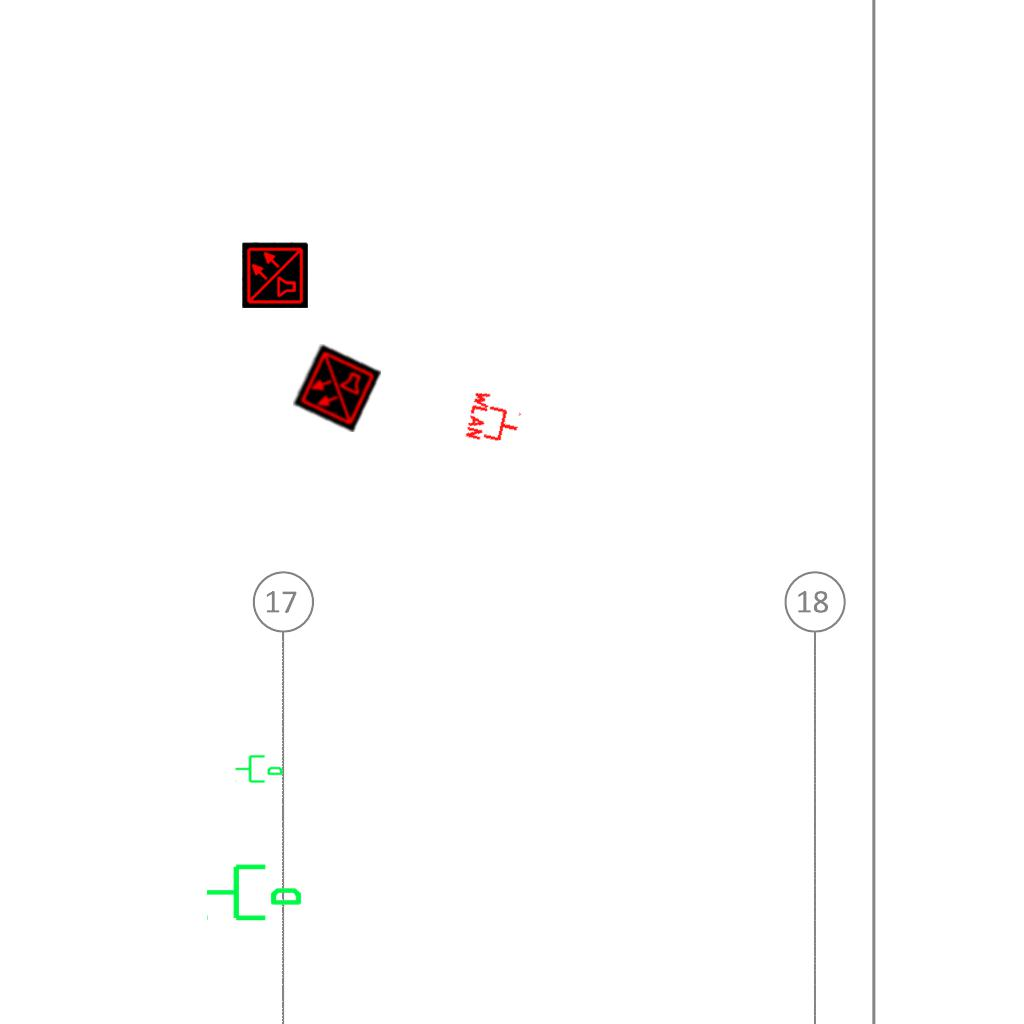Datenanschluss_einfach: (204, 856, 304, 925), (234, 751, 284, 785)
OKW_Multisensormelder_(Kombination_optischer_Rauch-Kahlenmonoxid_Waerme-Melder): (293, 344, 381, 432), (242, 242, 308, 308)
WLAN: (463, 387, 527, 451)
